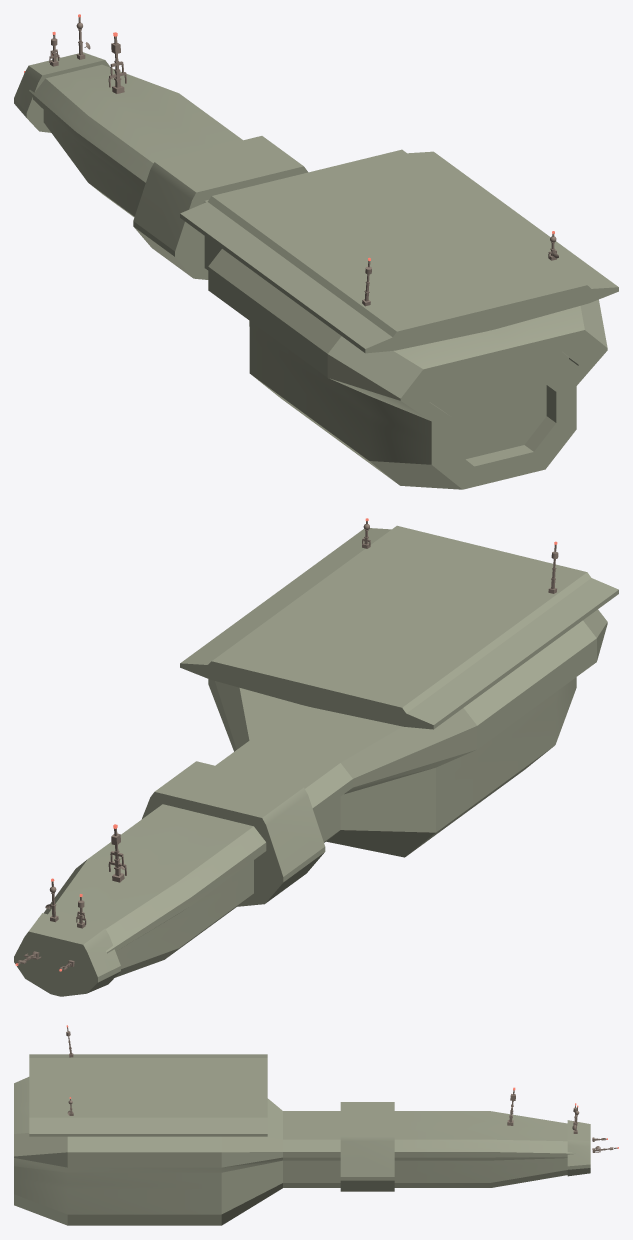
The model's file is vos_deck_runner.glb.
3 renders of one model, top to bottom at view 1: azimuth 30°, elevation 25°; view 2: azimuth 150°, elevation 25°; view 3: azimuth 270°, elevation 25°, orthographic. The views are drawn at different scales.
Parts seen in each view (by area): view 1: hull, hull_metal_4a3a30; view 2: hull, hull_metal_4a3a30; view 3: hull, hull_metal_4a3a30.
Boxes of the visible parts, x1,y1,x2,y2 form: hull: (14,52,618,489); hull_metal_4a3a30: (49,16,558,306); hull: (14,525,618,996); hull_metal_4a3a30: (17,520,558,970); hull: (14,1054,590,1225); hull_metal_4a3a30: (66,1027,617,1152).
Bounding box in the file's own units: 52 × 43.46 × 157.
